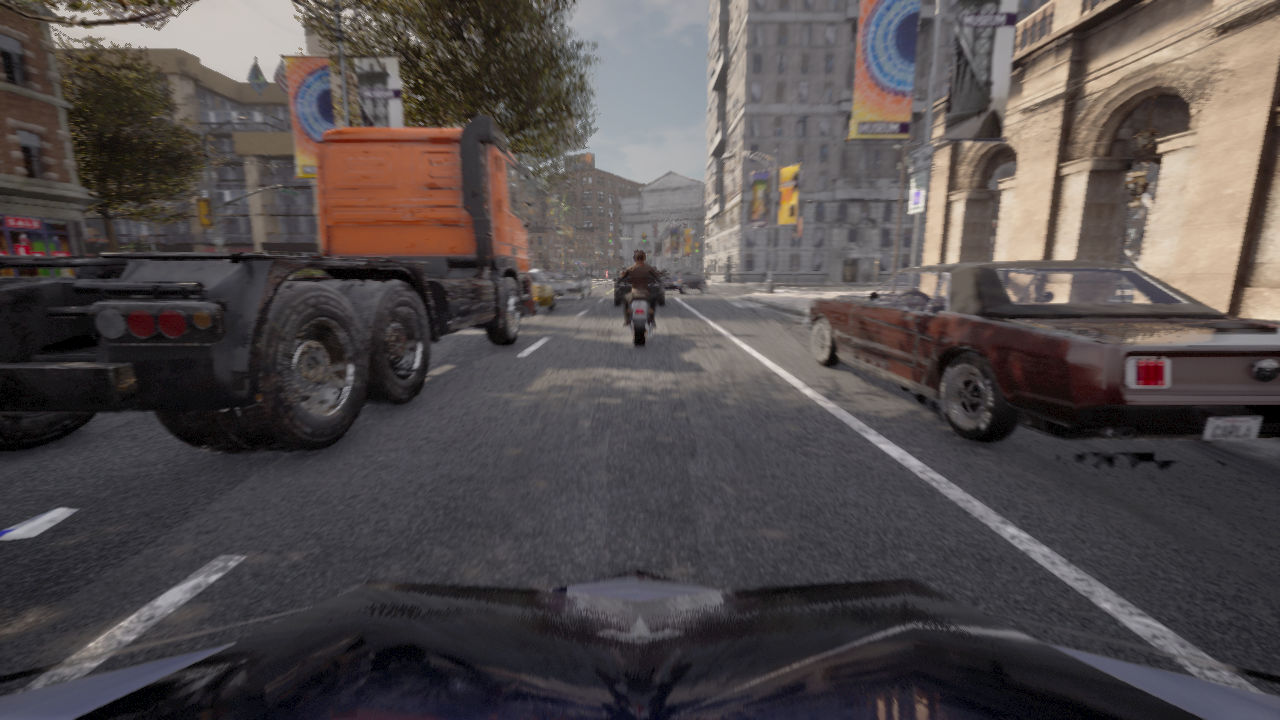cyclist: (0, 569, 1279, 719), (0, 115, 540, 452), (805, 261, 1279, 441), (619, 269, 660, 346), (613, 266, 666, 305), (660, 266, 708, 294), (529, 268, 554, 313), (548, 272, 591, 298), (543, 271, 556, 278), (633, 262, 645, 264), (615, 271, 620, 275)
